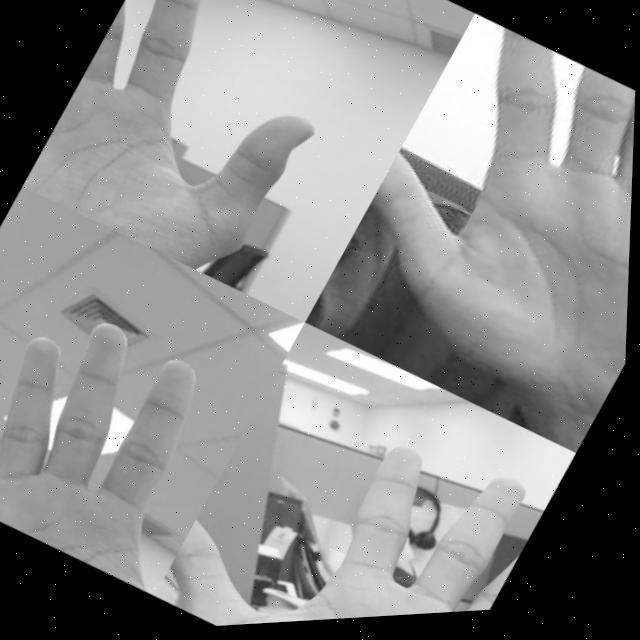no-gloves: (319, 11, 639, 442), (156, 356, 560, 632), (19, 0, 371, 299), (0, 243, 273, 605)
